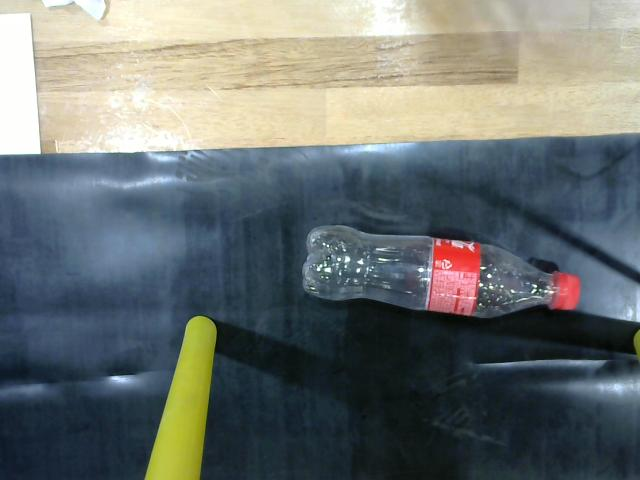bottle: (294, 220, 584, 328)
